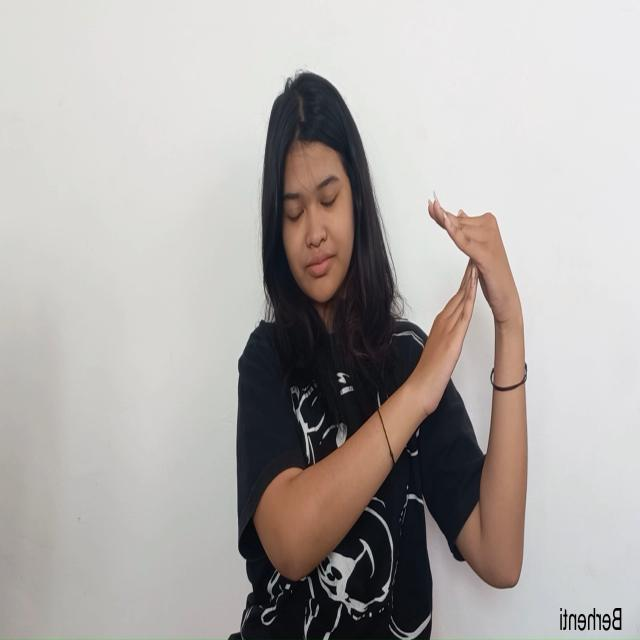Berhenti -BISINDO-: (413, 185, 528, 430)
